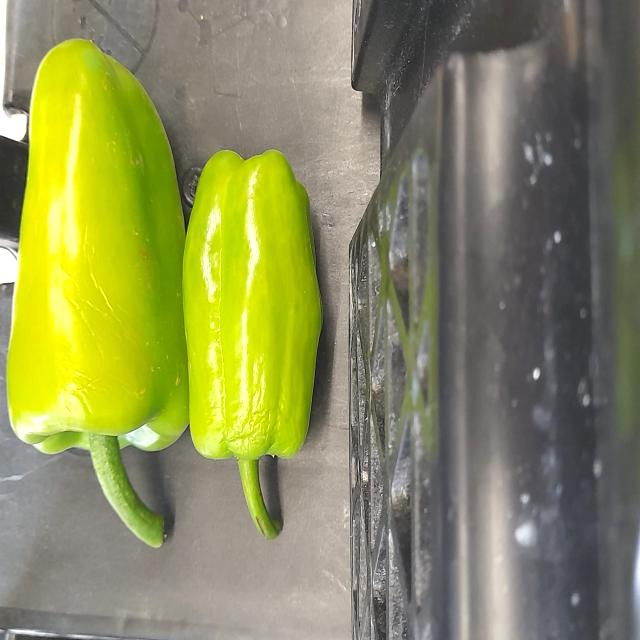bell pepper: (5, 17, 182, 538), (178, 119, 328, 536)
